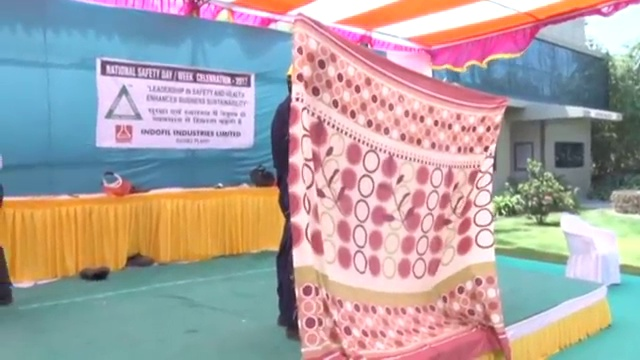person: (269, 64, 303, 343)
